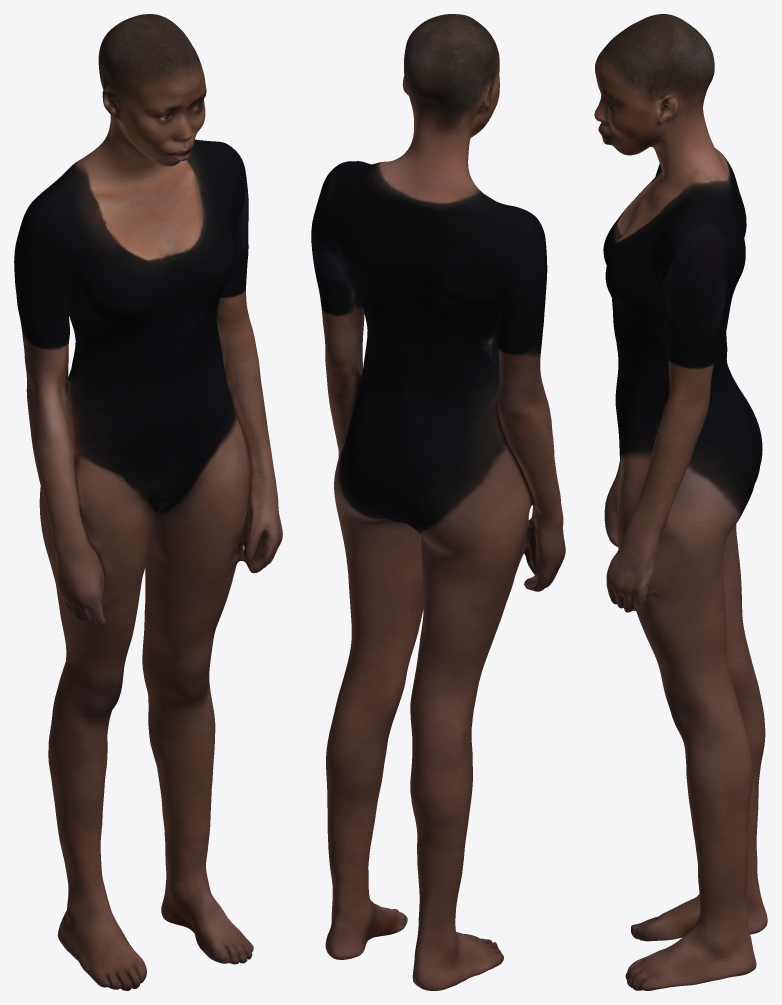
The model's file is giannina.obj.
The picture shows the model from 3 angles, left to right: view 1: azimuth 30°, elevation 25°; view 2: azimuth 150°, elevation 25°; view 3: azimuth 270°, elevation 25°; orthographic projection. The views are drawn at different scales.
Parts seen in each view (by area): view 1: Group7914; view 2: Group7914; view 3: Group7914.
Part boxes in pixels (<box>): Group7914: <box>14,14,282,990</box>; Group7914: <box>311,14,565,990</box>; Group7914: <box>594,14,767,990</box>.
Size of the model in its own units: 44.05 by 174 by 29.33.
Materials: 1 (1 with a texture image).
